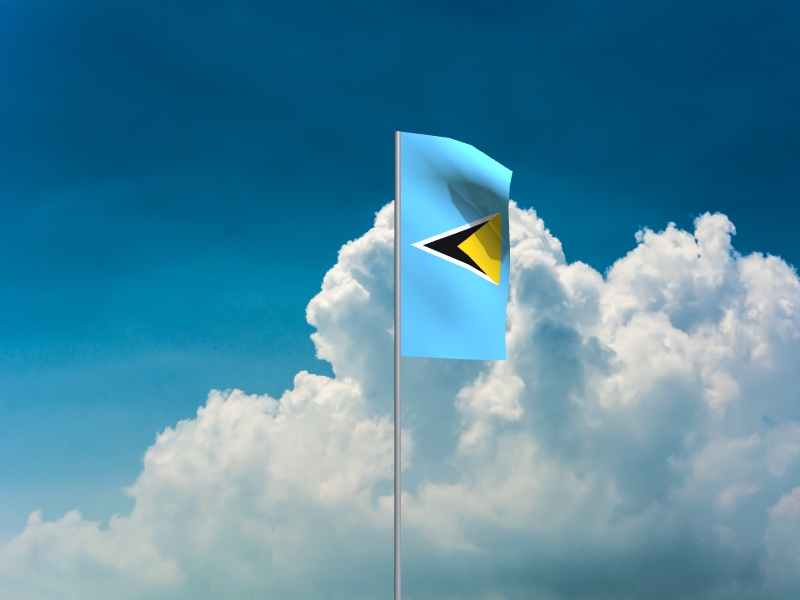lc: (402, 133, 515, 361)
